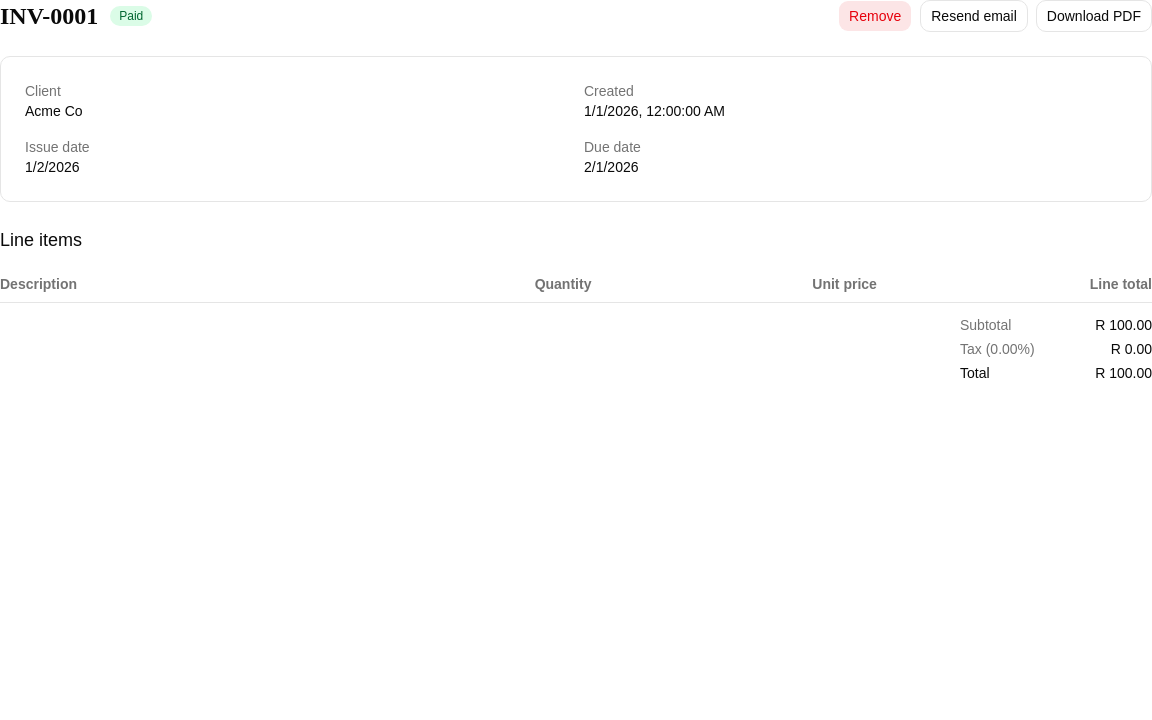
Test: InvoiceDetailPage — Resend email delivery outcome › shows no info message when Resend succeeds and email delivery is Sent
Click the button "Resend email".
click(974, 16)  # box [920, 0, 1028, 32]
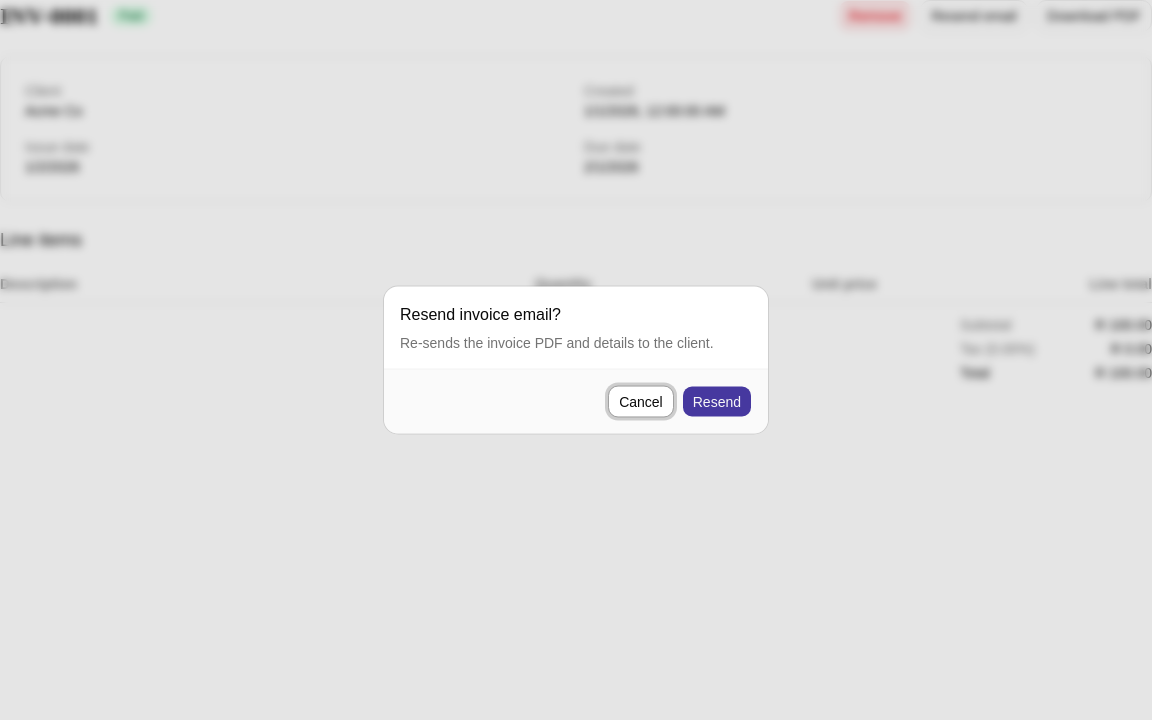
Click the button "Resend".
click(717, 402)  # box [682, 386, 752, 418]
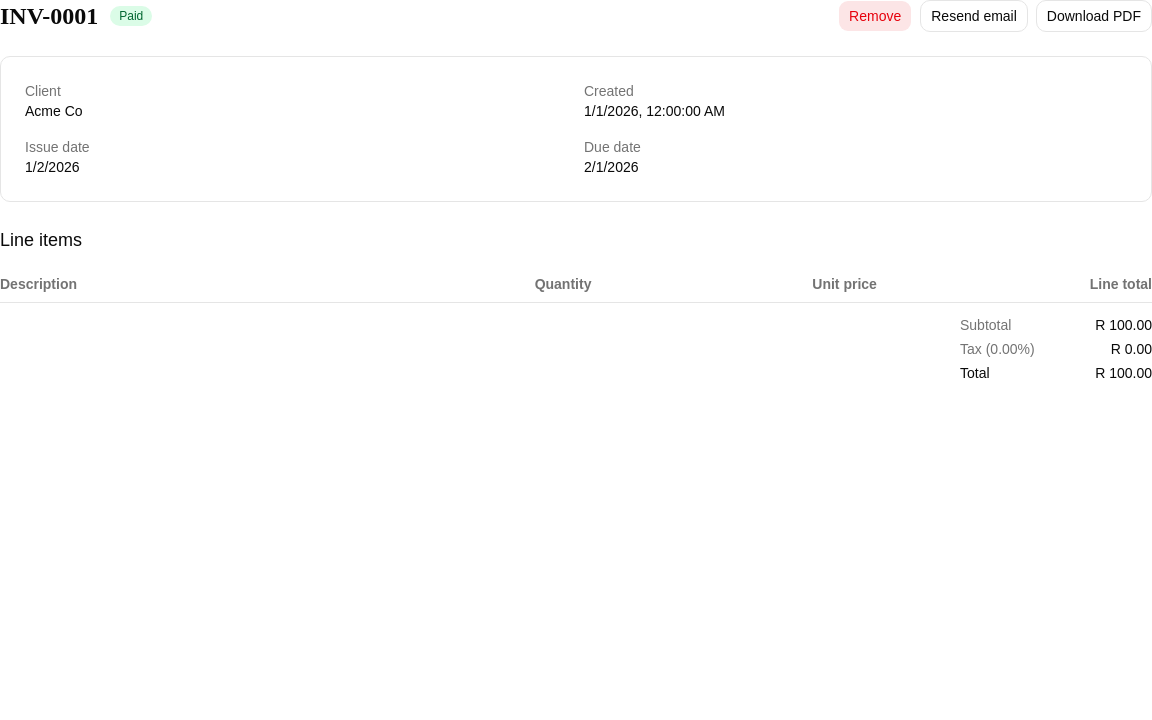
Expected: the heading "INV-0001" is shown, [0, 0, 98, 32]
Expected: the dialog is gone
